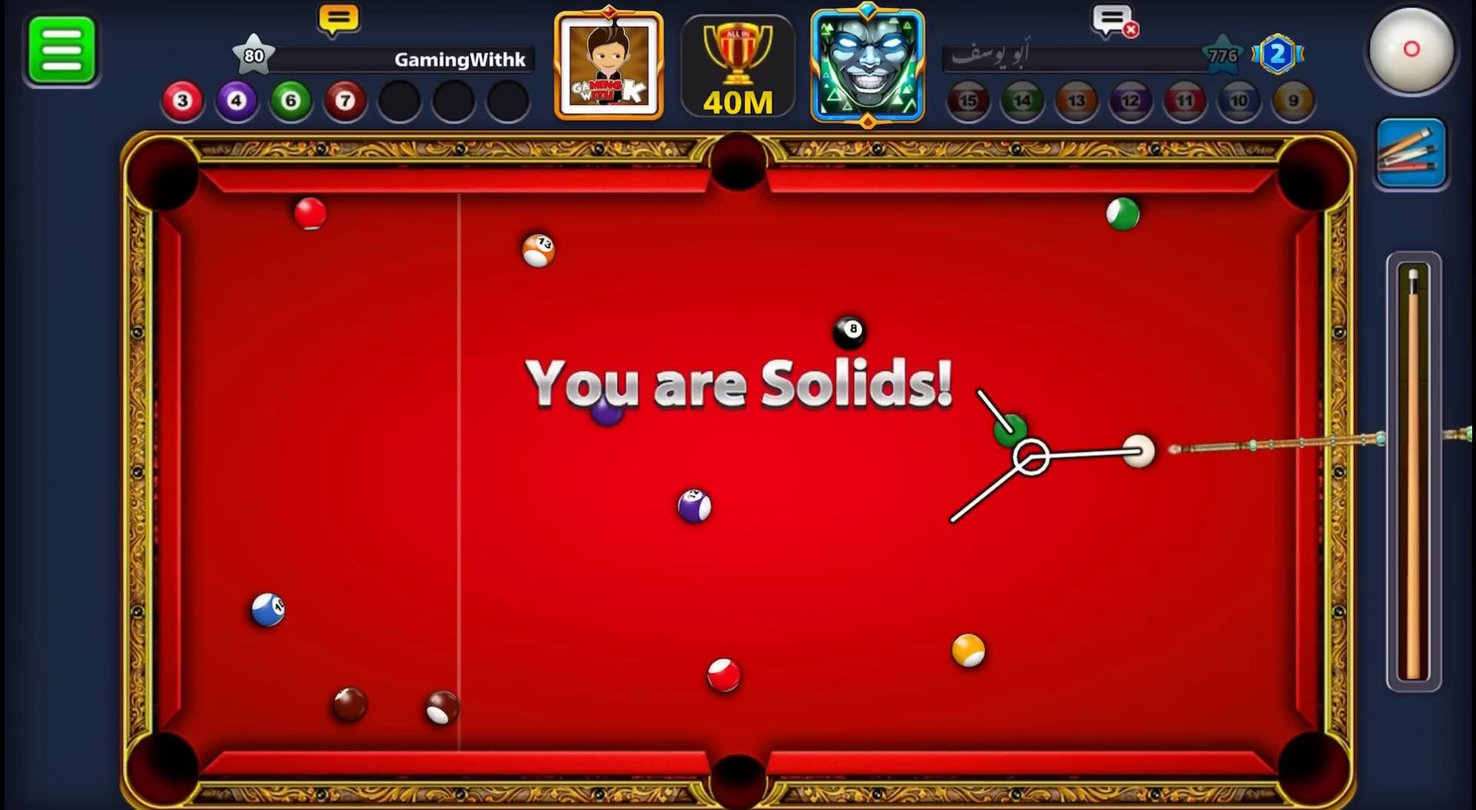Ball: (1098, 192, 1149, 233), (949, 630, 991, 677), (704, 655, 743, 698), (832, 310, 868, 351), (589, 390, 626, 428), (331, 685, 368, 723), (993, 411, 1030, 449), (425, 689, 461, 726), (249, 591, 286, 627), (521, 231, 557, 268), (677, 487, 712, 523), (293, 195, 328, 231)
Force: (1384, 249, 1444, 695)
Guideline: (945, 444, 1139, 528), (971, 382, 1016, 438), (1010, 435, 1054, 478)
Hole: (1272, 132, 1356, 220), (1275, 731, 1352, 810), (124, 135, 202, 212), (126, 730, 202, 805), (702, 748, 771, 810), (708, 131, 768, 191)
Play_Area: (181, 192, 1293, 753)
Spin: (1360, 4, 1462, 99)
White: (1122, 434, 1160, 474)
